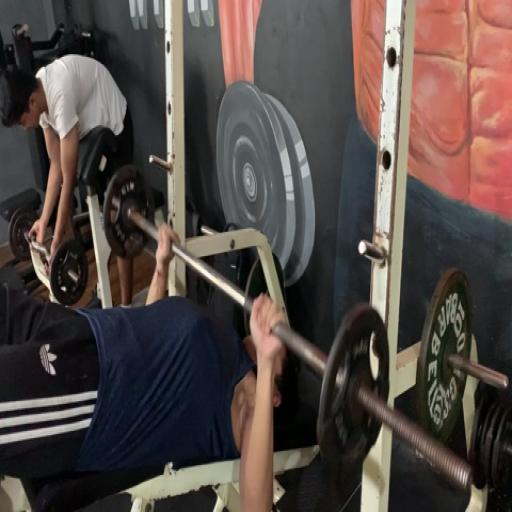exercise: (0, 221, 292, 510)
